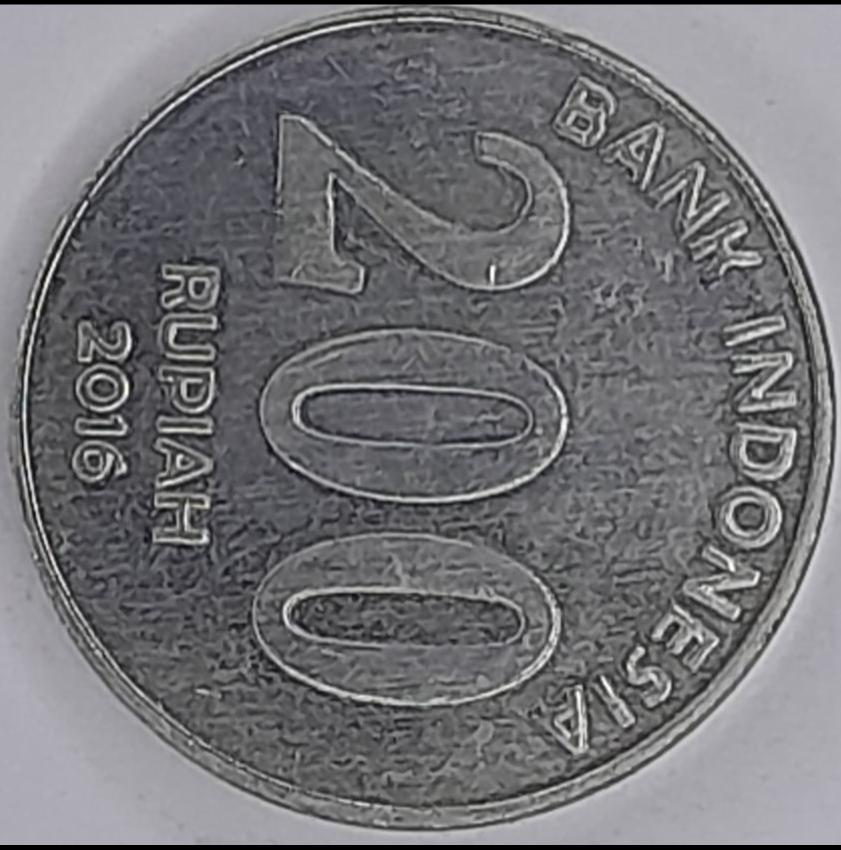coin_200_e2016: (0, 15, 841, 850)
